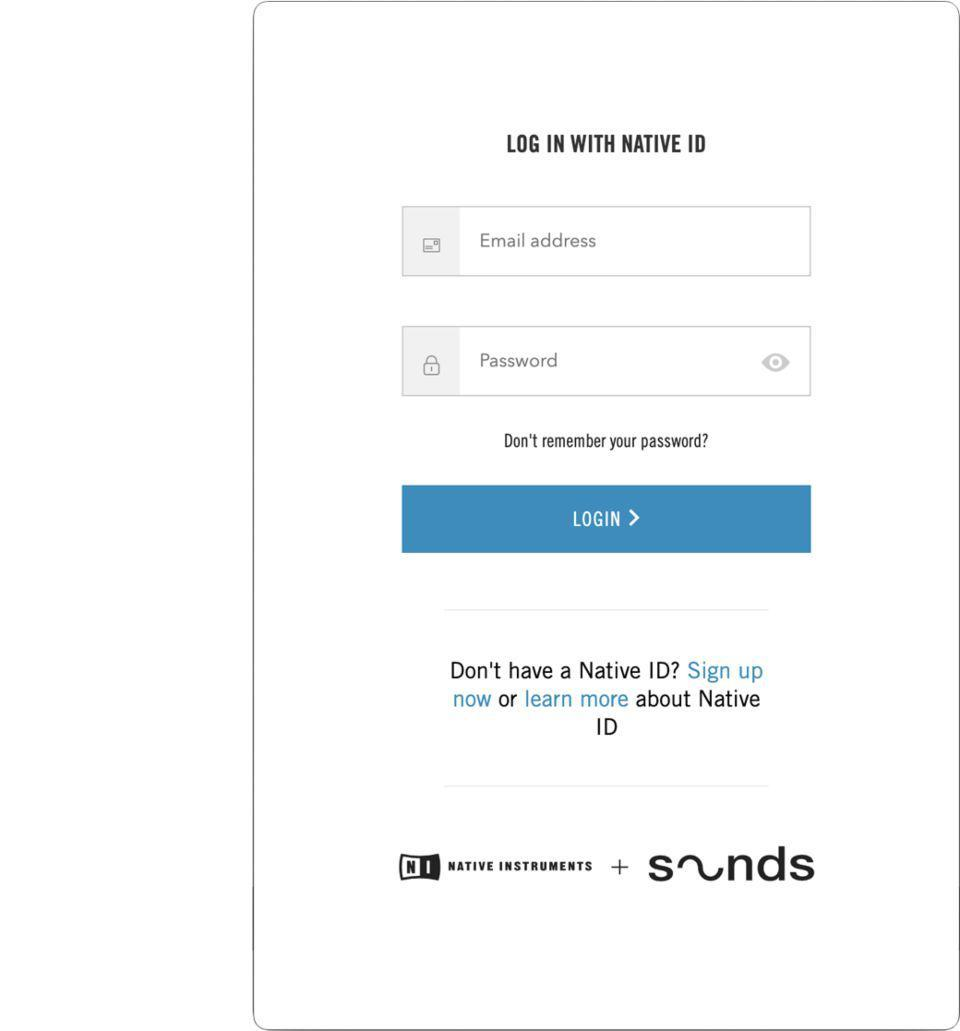button: (405, 486, 813, 554)
icon: (417, 234, 450, 261), (760, 350, 793, 375), (420, 354, 450, 381)
input: (463, 326, 811, 395), (461, 208, 813, 272)
label: (501, 120, 719, 175)
